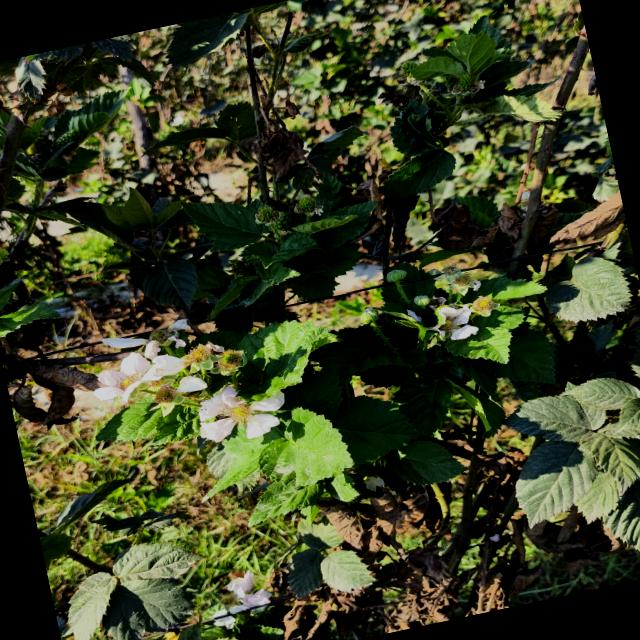boton: (360, 306, 379, 322), (385, 269, 407, 281), (413, 295, 430, 307)
flor: (198, 386, 284, 442), (95, 352, 152, 401), (431, 304, 478, 340), (144, 354, 187, 380), (224, 571, 254, 598), (241, 589, 270, 609)
